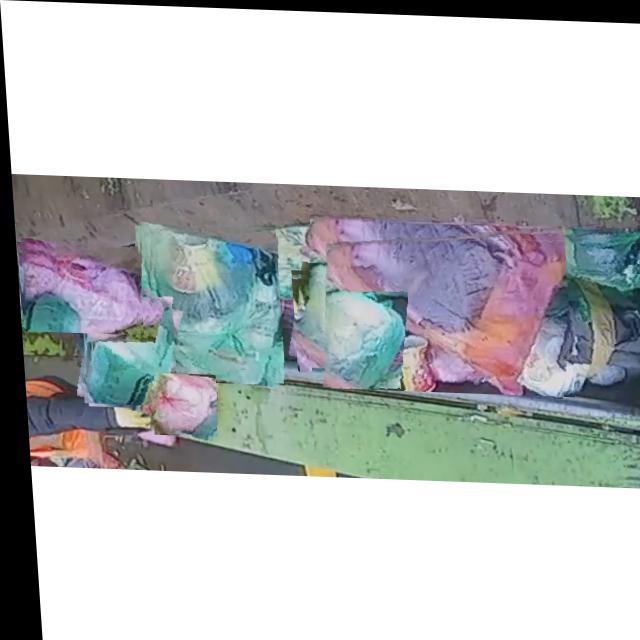general_trashbag: (145, 226, 277, 382), (291, 270, 395, 371), (79, 298, 168, 404), (550, 225, 640, 284)
other_trashbag: (319, 230, 562, 391), (521, 267, 640, 388), (17, 246, 136, 332), (147, 372, 211, 430)
